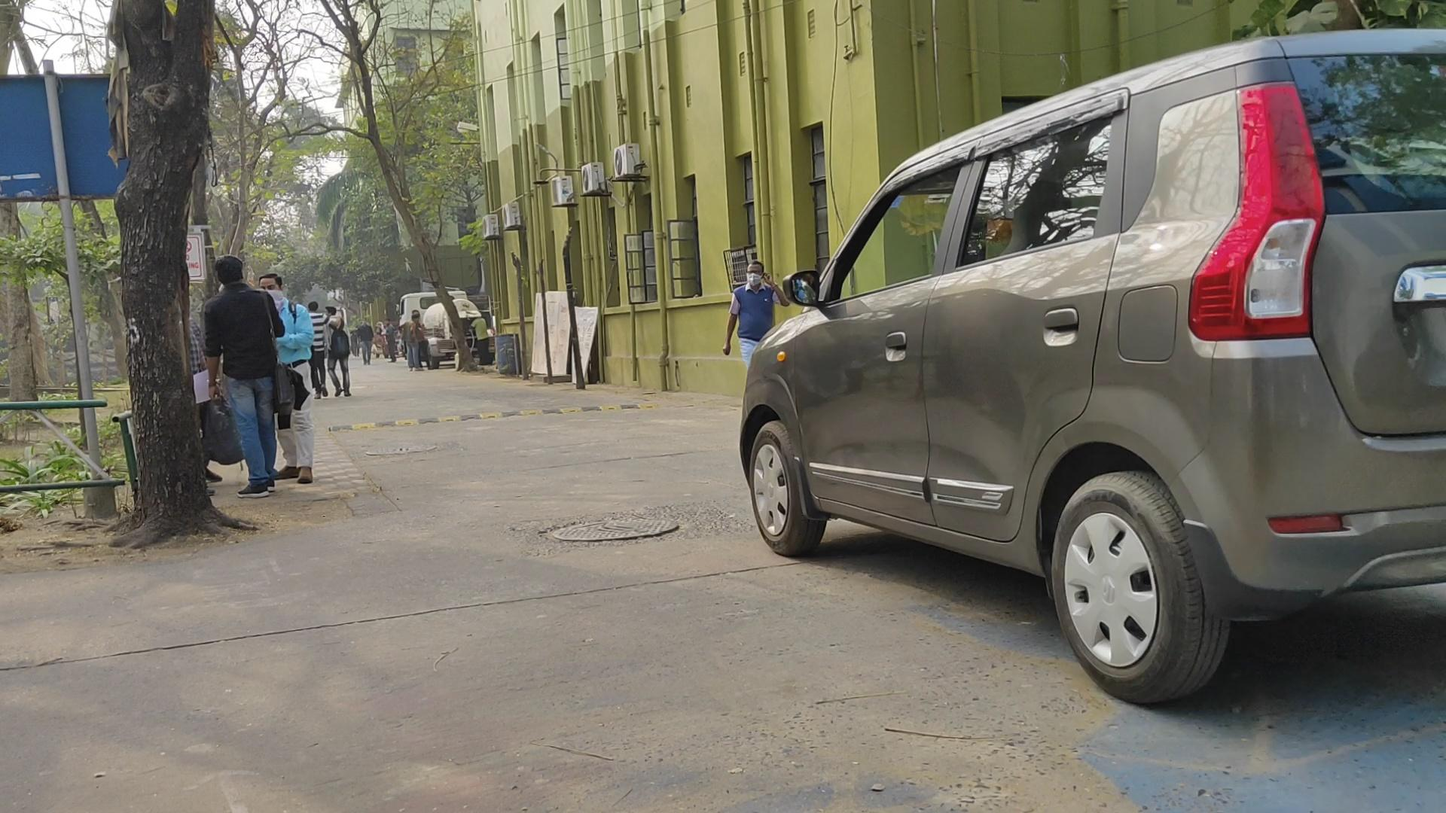car: (740, 28, 1446, 724)
truck: (396, 292, 482, 370)
